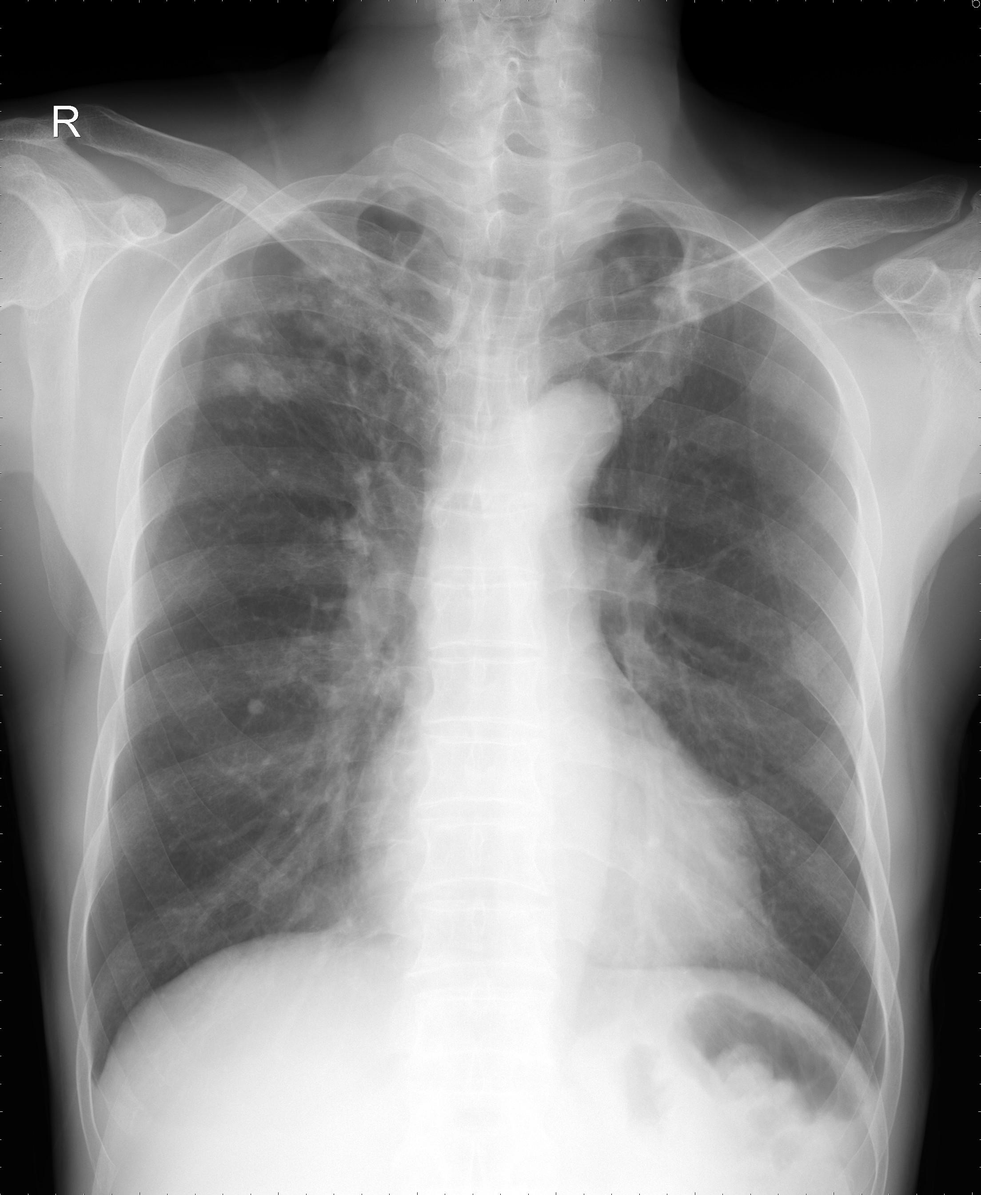Pulmonary fibrosis: (210, 257, 393, 401), (592, 232, 729, 338)
